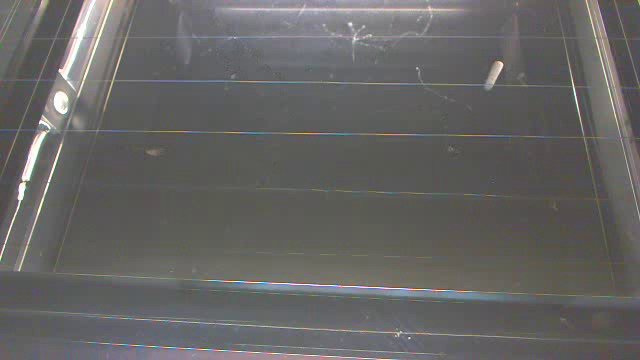alpha: (482, 60, 504, 92), (145, 147, 167, 157)
